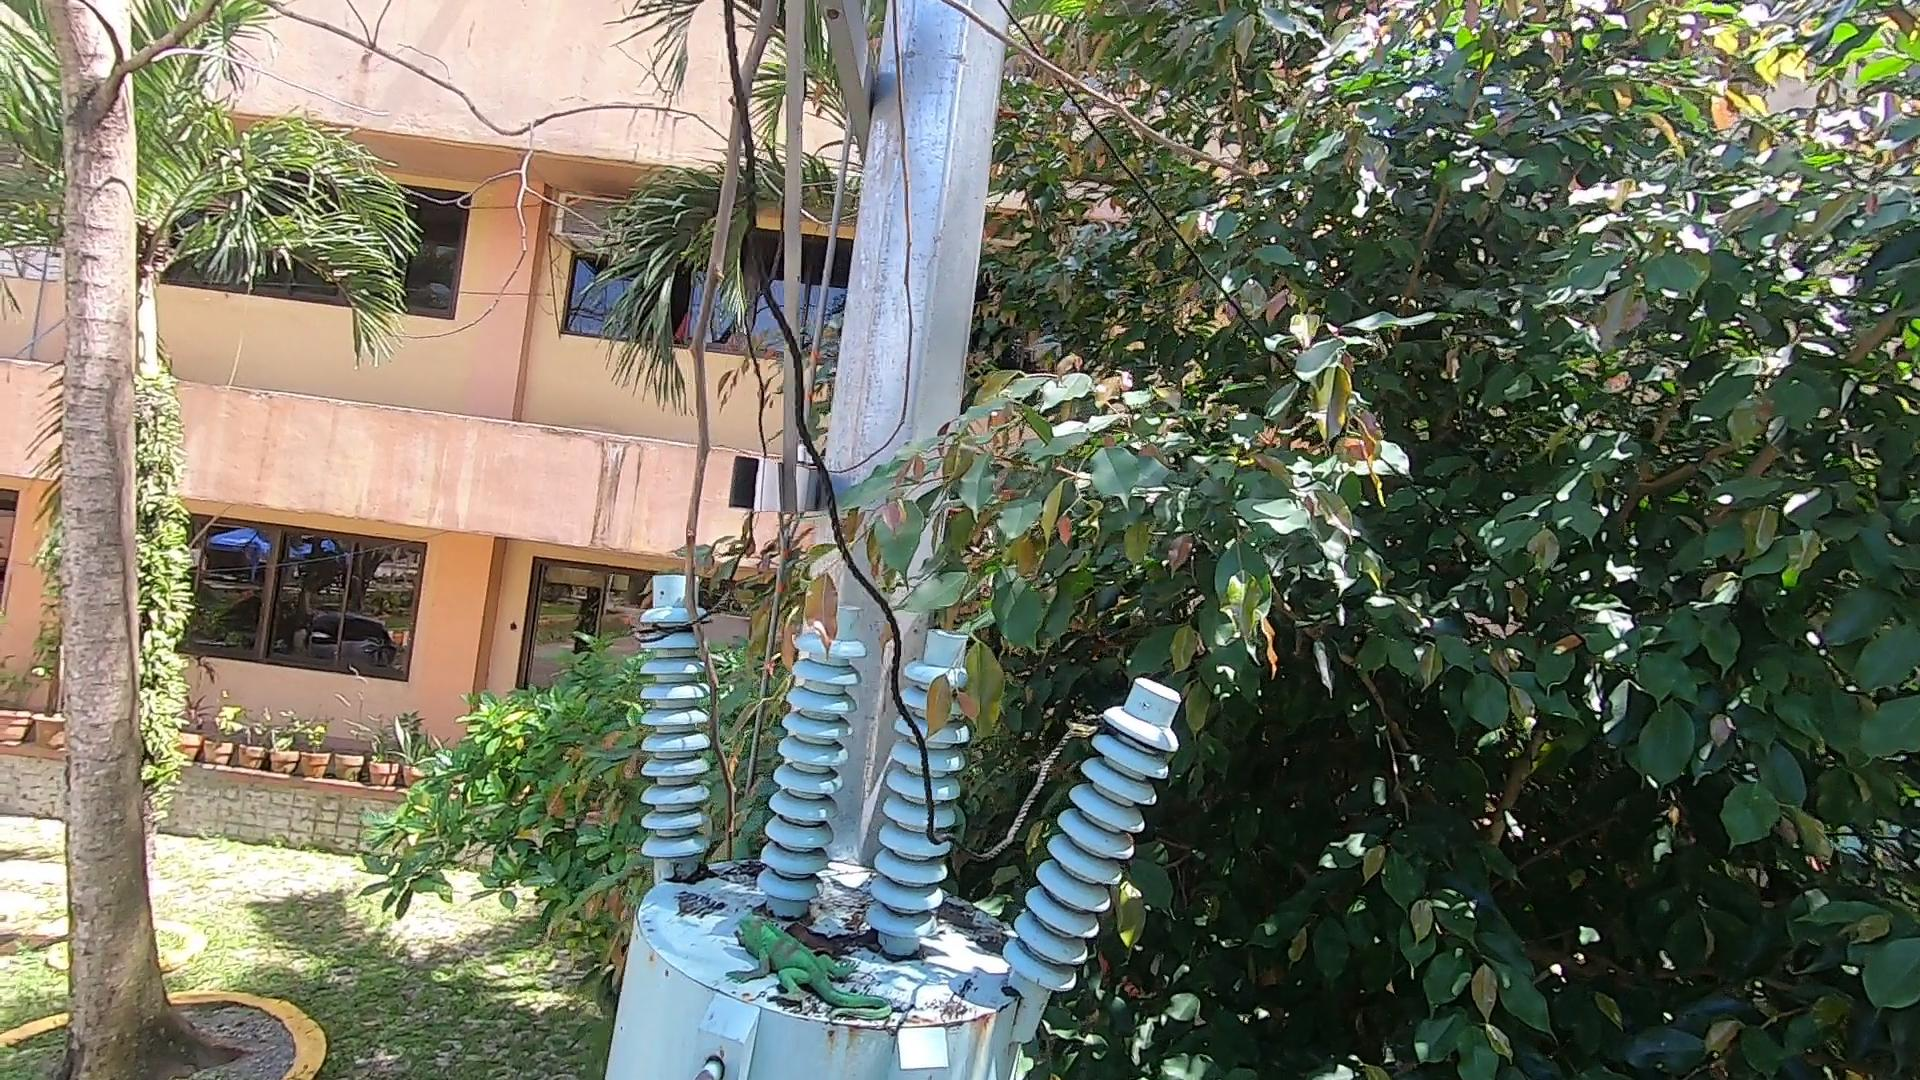branch with leaves: (774, 425, 1038, 752)
leaf: (799, 910, 885, 957), (940, 893, 1007, 944), (679, 853, 723, 894)
tree branch: (640, 15, 1258, 848)
